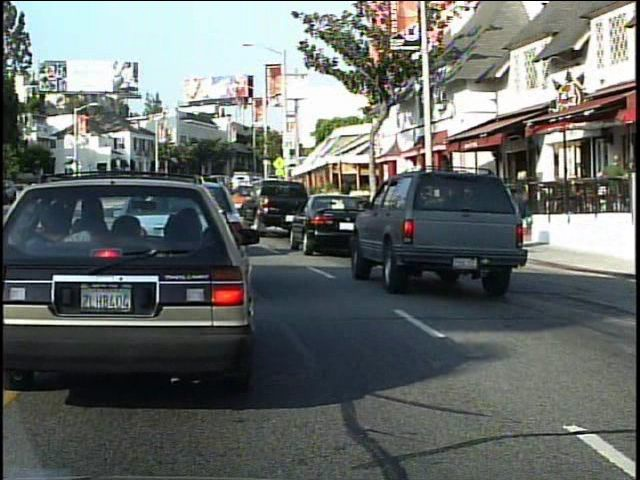person: (596, 150, 631, 233), (506, 164, 542, 237)
